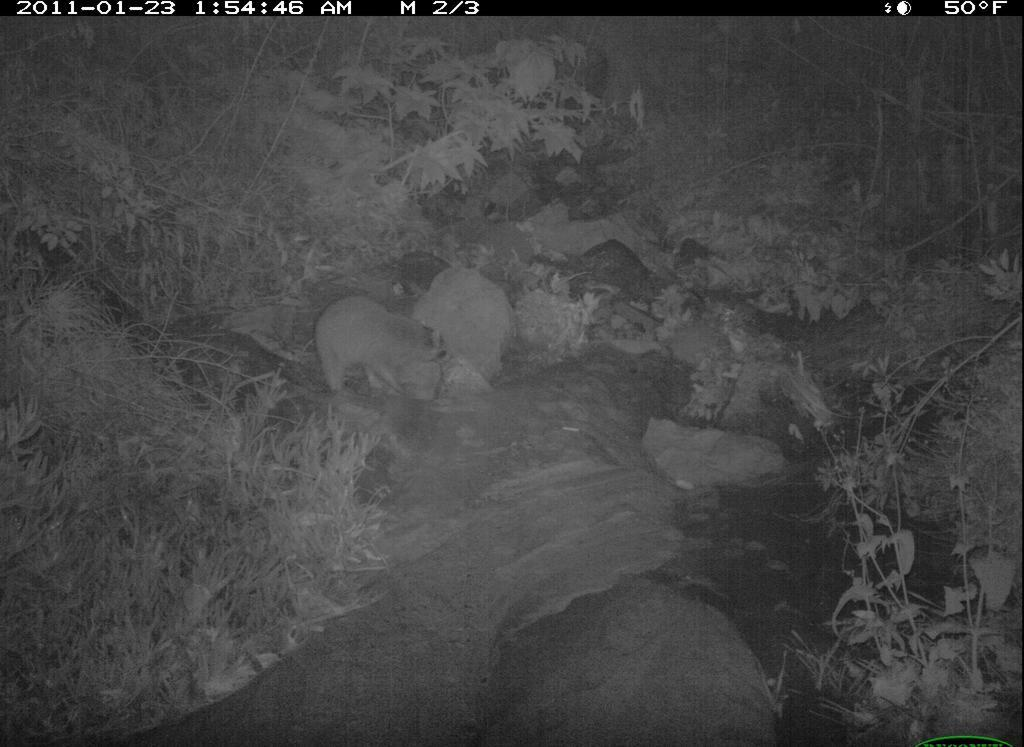raccoon: (299, 285, 464, 411)
